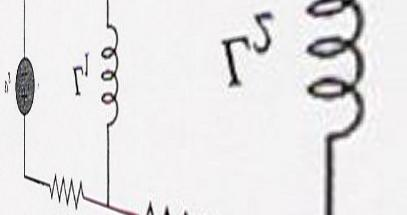inductor: (294, 0, 384, 142), (95, 18, 123, 132)
